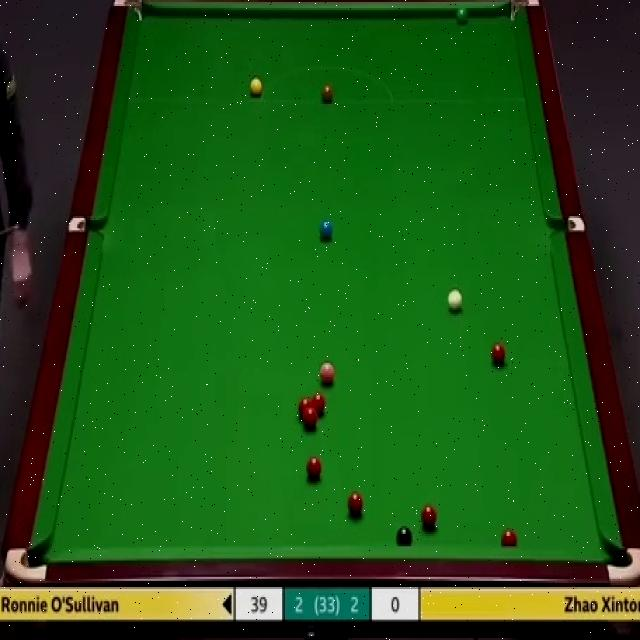black-ball: (394, 525, 414, 543)
blue-ball: (318, 221, 333, 239)
brown-ball: (321, 81, 333, 102)
green-ball: (456, 4, 466, 23)
pink-ball: (321, 361, 334, 385)
red-ball: (420, 505, 438, 533), (306, 455, 324, 481), (347, 487, 363, 516), (490, 342, 505, 368), (298, 397, 312, 423), (312, 393, 326, 417), (304, 410, 318, 430), (500, 528, 518, 543)
white-ball: (447, 289, 463, 314)
yellow-ball: (249, 80, 262, 96)
